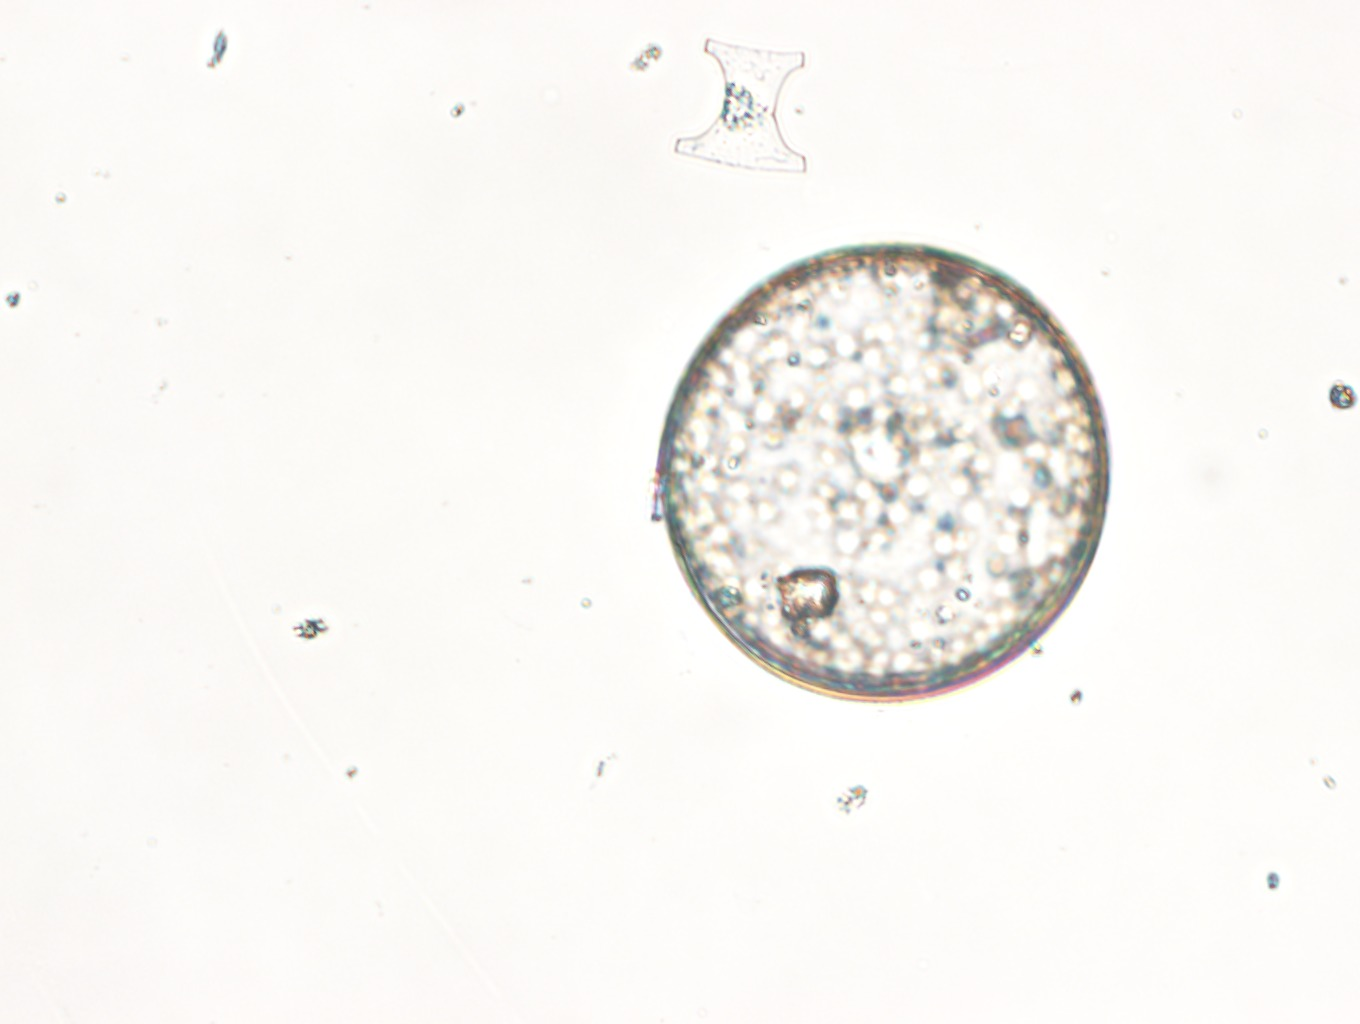coscinodiscus: (655, 241, 1113, 707)
eucampia: (674, 39, 806, 174)
